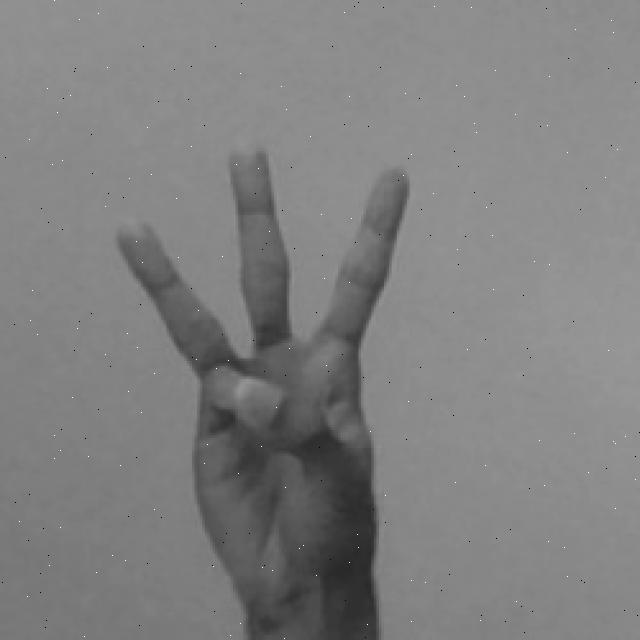W: (104, 130, 422, 640)
